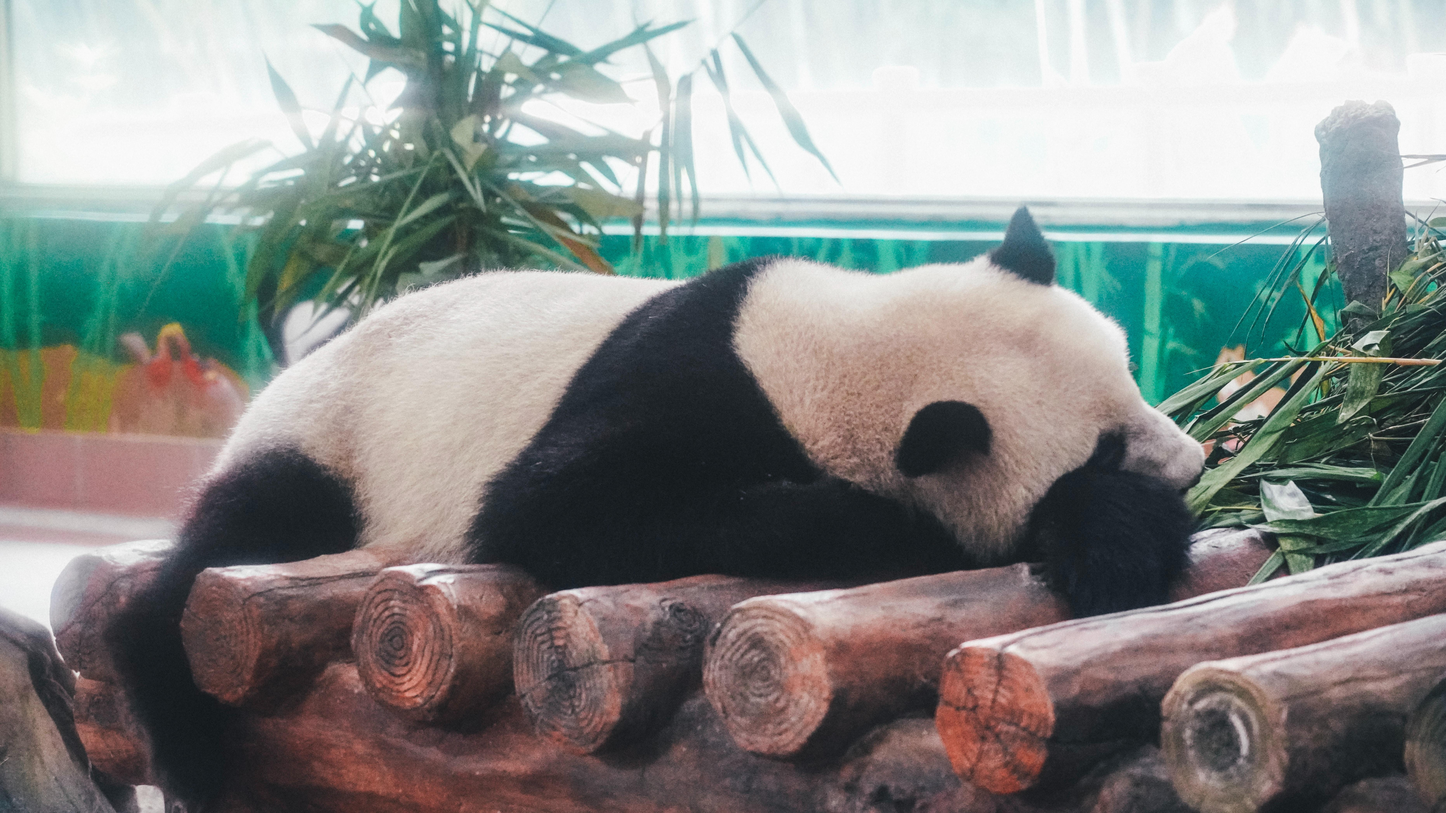panda: (131, 202, 1212, 621)
